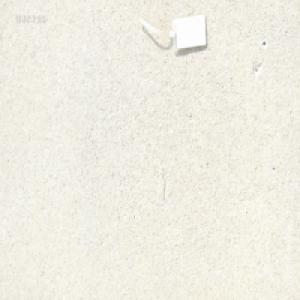LuggageTag: (135, 10, 208, 56)
